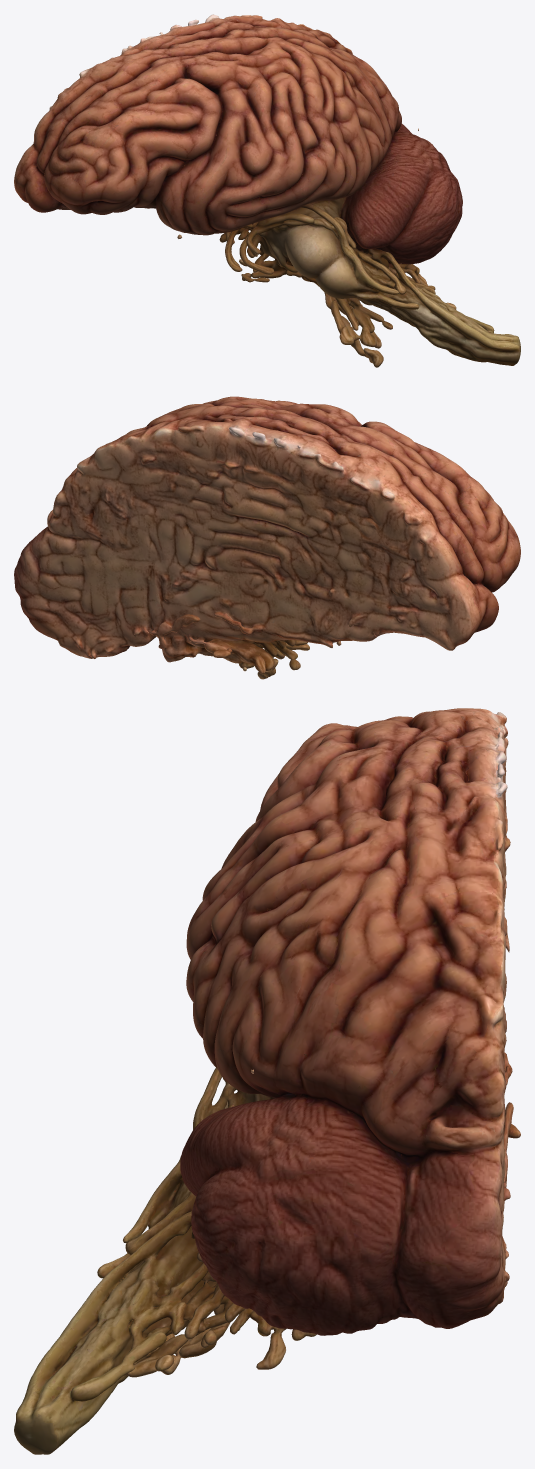
The model's file is gato-anatomia-3d.glb.
The picture shows the model from 3 angles, top to bottom: view 1: azimuth 30°, elevation 25°; view 2: azimuth 150°, elevation 25°; view 3: azimuth 270°, elevation 25°; orthographic projection. The views are drawn at different scales.
Parts seen in each view (by area): view 1: geometry_0; view 2: geometry_0; view 3: geometry_0.
Part boxes in pixels (bbox=[...]): geometry_0: bbox=[14, 14, 520, 367]; geometry_0: bbox=[14, 396, 520, 679]; geometry_0: bbox=[14, 708, 520, 1454].
Size of the model in its own units: 1 by 0.7133 by 0.6193.
1 material, 1 textured.
